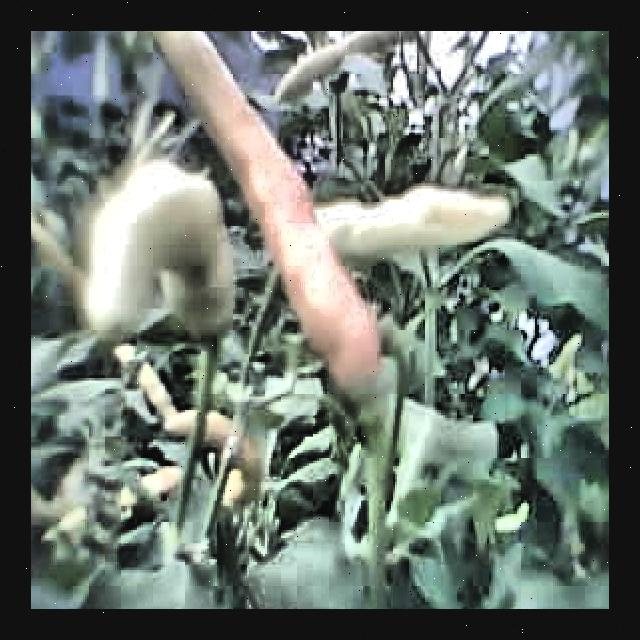Cabai: (227, 31, 380, 349)
